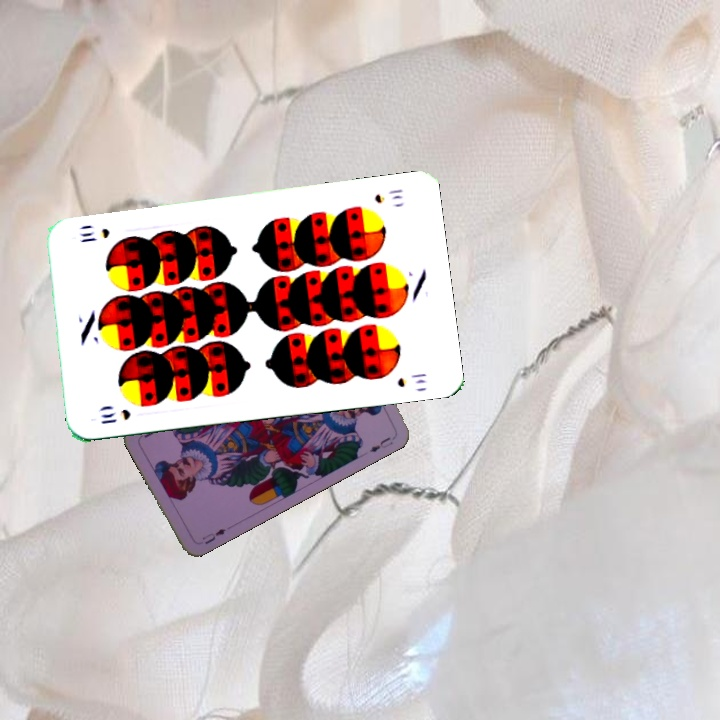EU: (198, 524, 228, 547)
S10: (97, 405, 133, 427), (371, 185, 405, 206)
